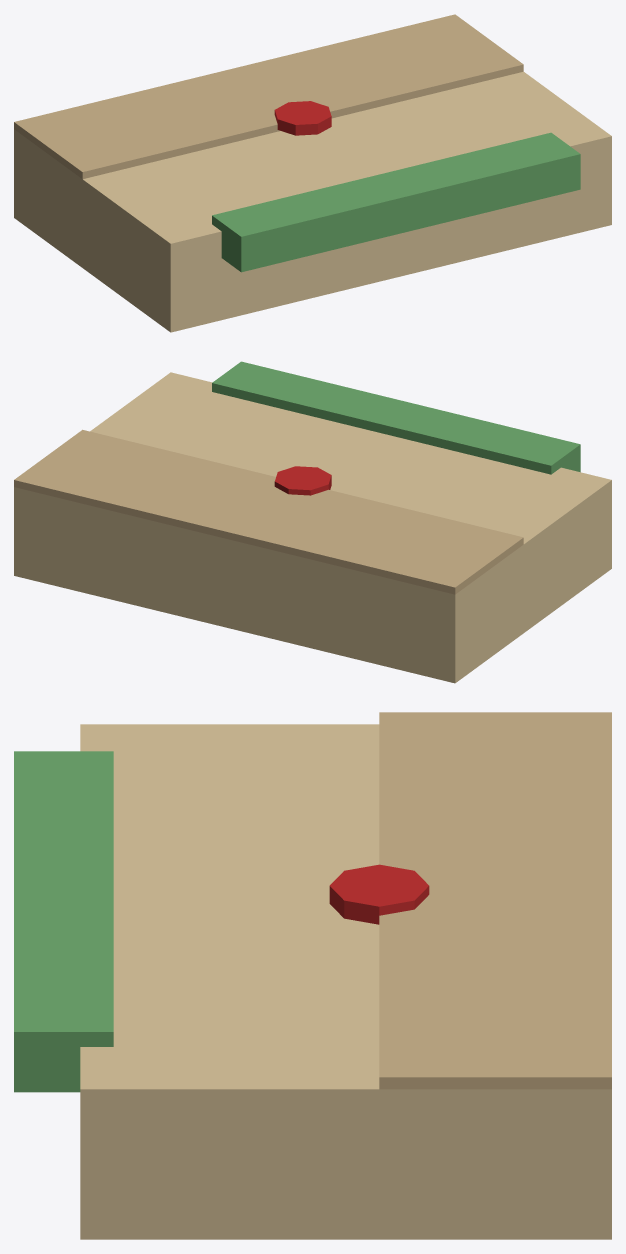
The model's file is bonus_envelope.glb.
The picture shows the model from 3 angles, top to bottom: view 1: azimuth 30°, elevation 25°; view 2: azimuth 150°, elevation 25°; view 3: azimuth 270°, elevation 25°; orthographic projection. The views are drawn at different scales.
Parts seen in each view (by area): view 1: envelope_envelope, envelope_envelope_flap, bills_bills, seal_seal_red; view 2: envelope_envelope, envelope_envelope_flap, bills_bills, seal_seal_red; view 3: envelope_envelope, envelope_envelope_flap, bills_bills, seal_seal_red.
Boxes of the visible parts, <box> form: envelope_envelope: <box>14,71,611,332</box>; envelope_envelope_flap: <box>14,14,523,179</box>; bills_bills: <box>212,132,580,272</box>; seal_seal_red: <box>274,101,331,135</box>; envelope_envelope: <box>14,372,611,683</box>; envelope_envelope_flap: <box>14,429,523,594</box>; bills_bills: <box>212,361,580,474</box>; seal_seal_red: <box>274,466,331,495</box>; envelope_envelope: <box>80,724,611,1239</box>; envelope_envelope_flap: <box>379,712,611,1089</box>; bills_bills: <box>14,751,113,1092</box>; seal_seal_red: <box>329,864,429,924</box>.
Size of the model in its own units: 0.26 by 0.057 by 0.18.
